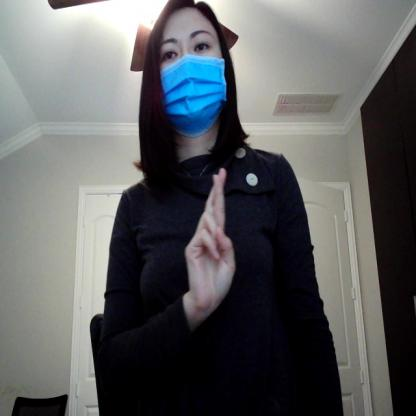right: (180, 164, 241, 316)
